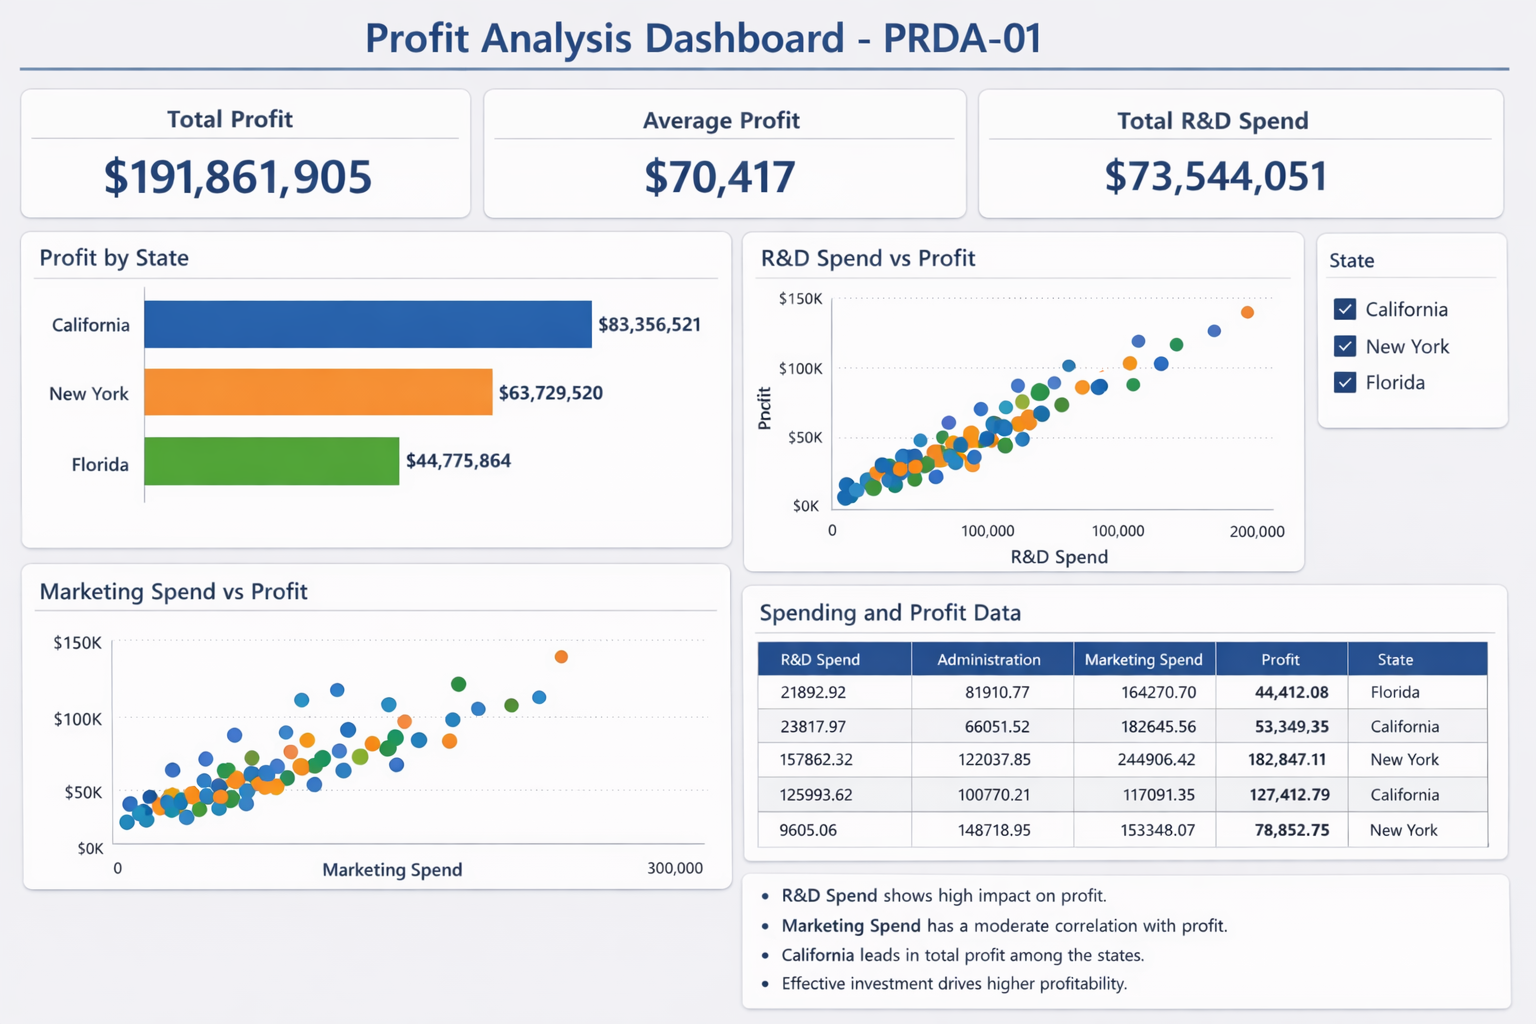

Layout of this report page (visuals, bound fields, positions):
{"tool":"powerbi","page":{"name":"Page 1","canvas":[1280,720],"ordinal":0},"visuals":[{"type":"cardVisual","fields":{"Data":["startup_profit_analysis.Total Profit","startup_profit_analysis.Average Profit","startup_profit_analysis.Total R&D Spend"]},"box":[4.3,46.1,1268.6,151.2],"z":0},{"type":"textbox","box":[4.3,0,1268.6,46.1],"z":1000},{"type":"clusteredBarChart","fields":{"Category":["startup_profit_analysis.State"],"Y":["Sum(startup_profit_analysis.Profit)"]},"box":[4.3,197.3,522.7,267.8],"z":2000},{"type":"scatterChart","fields":{"X":["startup_profit_analysis.RD_Spend"],"Y":["startup_profit_analysis.Profit"]},"box":[537.1,197.3,472.3,267.8],"z":3000},{"type":"scatterChart","fields":{"Y":["startup_profit_analysis.Profit"],"X":["startup_profit_analysis.Marketing_Spend"]},"box":[4.3,473.8,522.7,236.2],"z":4000},{"type":"tableEx","fields":{"Values":["startup_profit_analysis.RD_Spend","startup_profit_analysis.Administration","startup_profit_analysis.Marketing_Spend","startup_profit_analysis.Profit","startup_profit_analysis.State"]},"box":[537.1,473.8,735.8,236.2],"z":5000},{"type":"slicer","fields":{"Values":["startup_profit_analysis.State"]},"box":[1019.5,198.7,249.1,159.8],"z":7001}]}

Visuals, with their boxes on the page's 1280x720 design canvas (x1, y1, x2, y2). These are canvas units, not pixel positions in the 1536x1024 screenshot, which may show the page scaled, cropped or inside an application window:
cardVisual - startup_profit_analysis.Total Profit x startup_profit_analysis.Average Profit: 4, 46, 1273, 197
textbox: 4, 0, 1273, 46
clusteredBarChart - startup_profit_analysis.State x Sum(startup_profit_analysis.Profit): 4, 197, 527, 465
scatterChart - startup_profit_analysis.RD_Spend x startup_profit_analysis.Profit: 537, 197, 1009, 465
scatterChart - startup_profit_analysis.Profit x startup_profit_analysis.Marketing_Spend: 4, 474, 527, 710
tableEx - startup_profit_analysis.RD_Spend x startup_profit_analysis.Administration: 537, 474, 1273, 710
slicer - startup_profit_analysis.State: 1020, 199, 1269, 358
